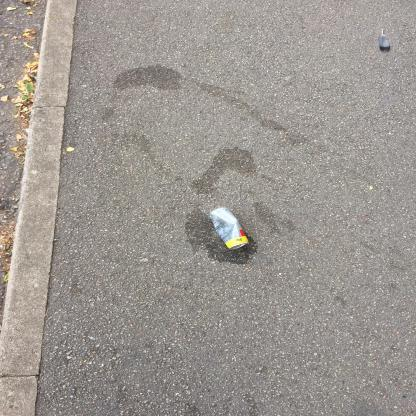metal: (210, 208, 251, 251)
